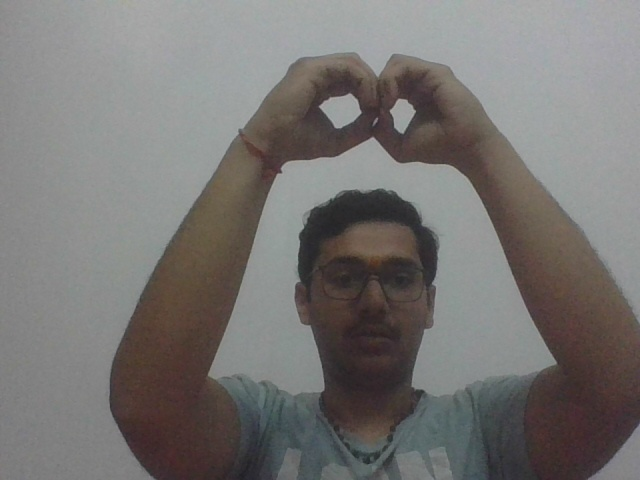B: (257, 40, 500, 171)
